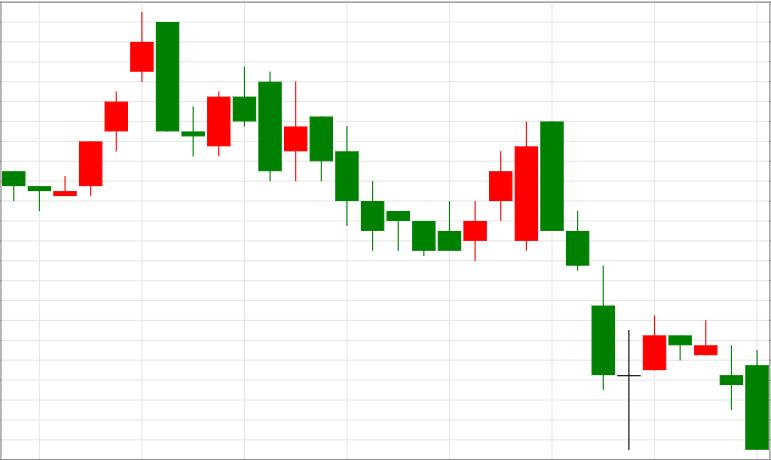morning_star_rise: (541, 122, 666, 451)
shooting_star_fall: (53, 12, 154, 198)
